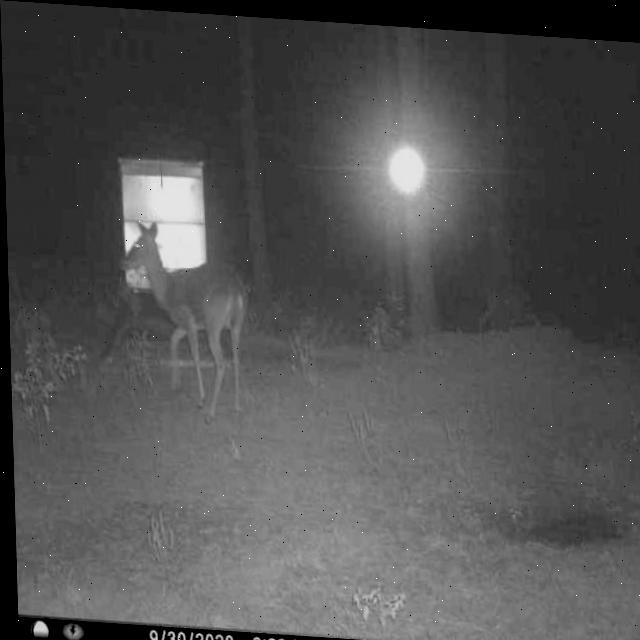Deer: (118, 212, 257, 428)
